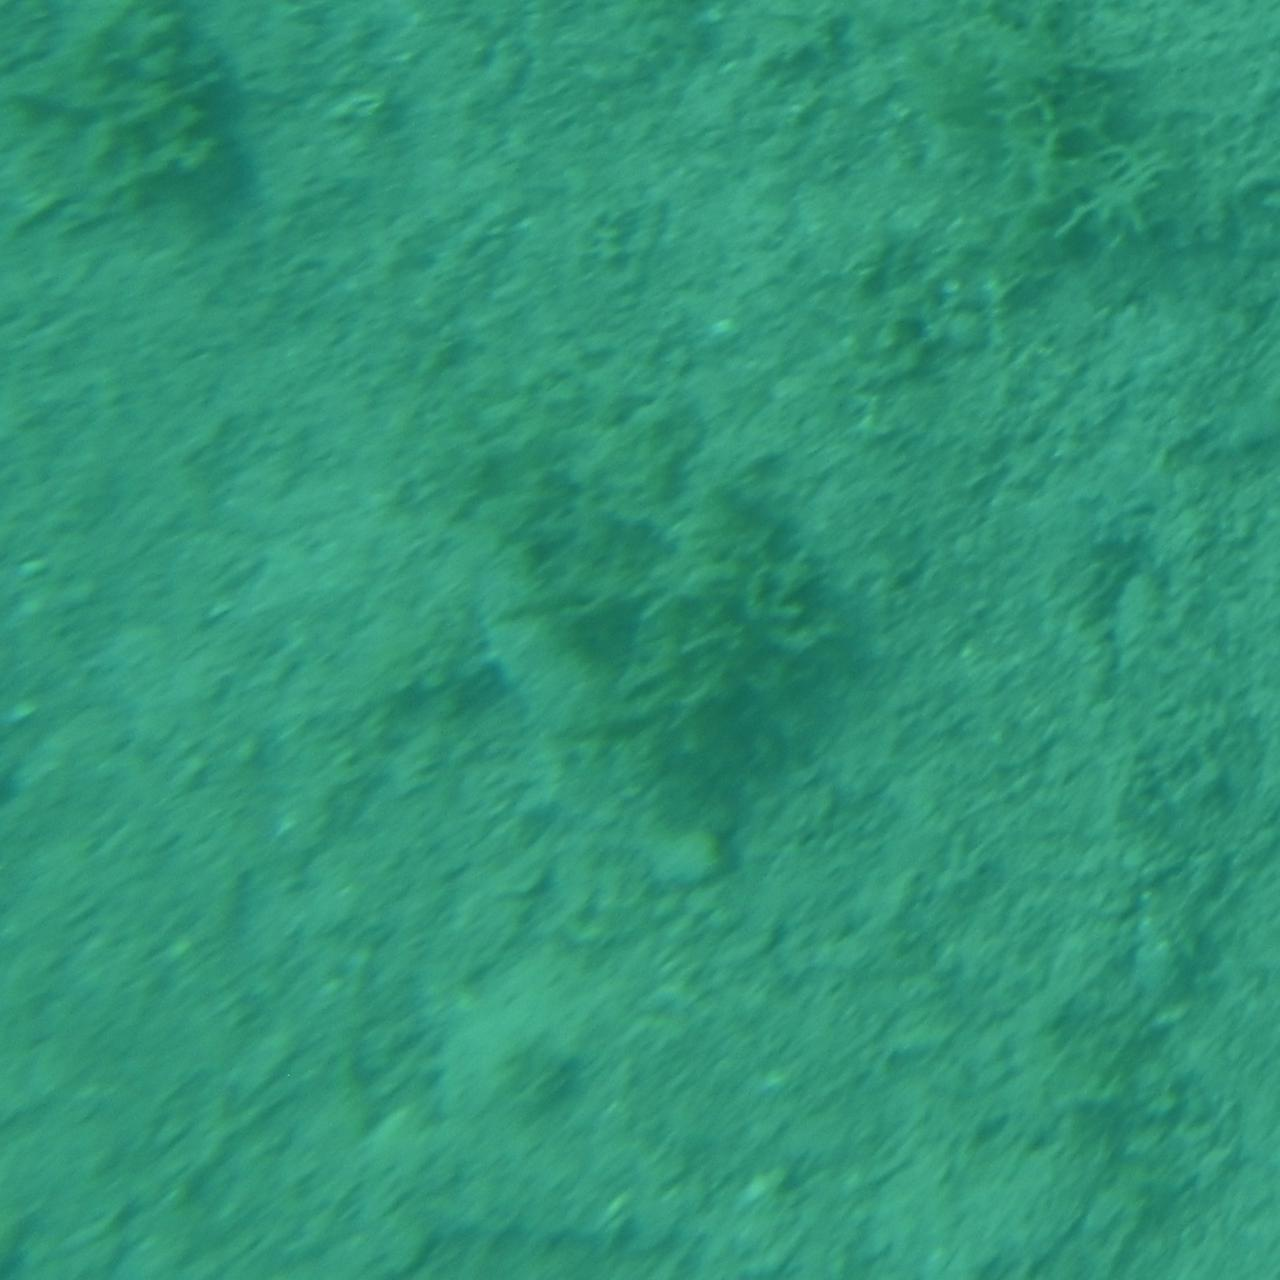Phaeophyceae -cfr Cystoseira-: (430, 418, 850, 870)
